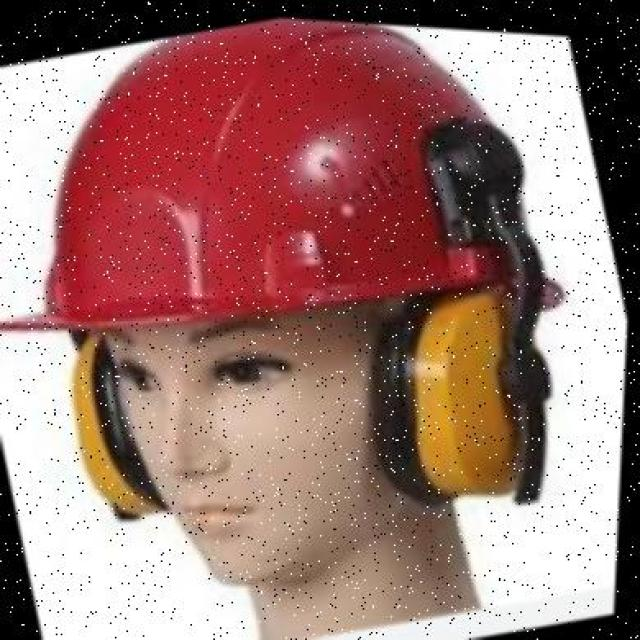Earmuffs: (372, 290, 517, 502), (73, 335, 166, 518)
Hardhat: (49, 20, 504, 327)
